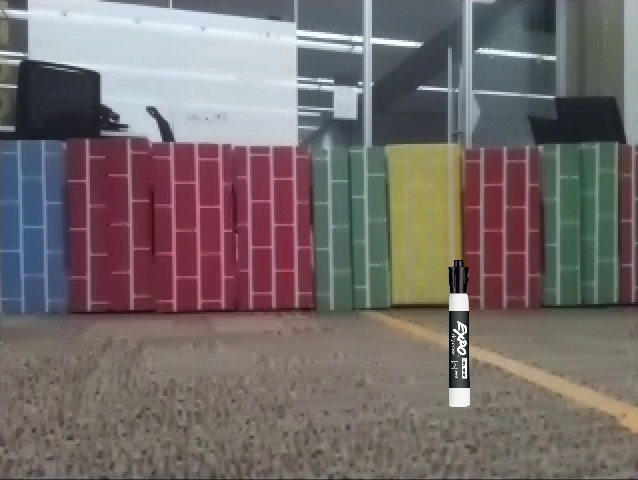ball: (98, 306, 134, 342)
